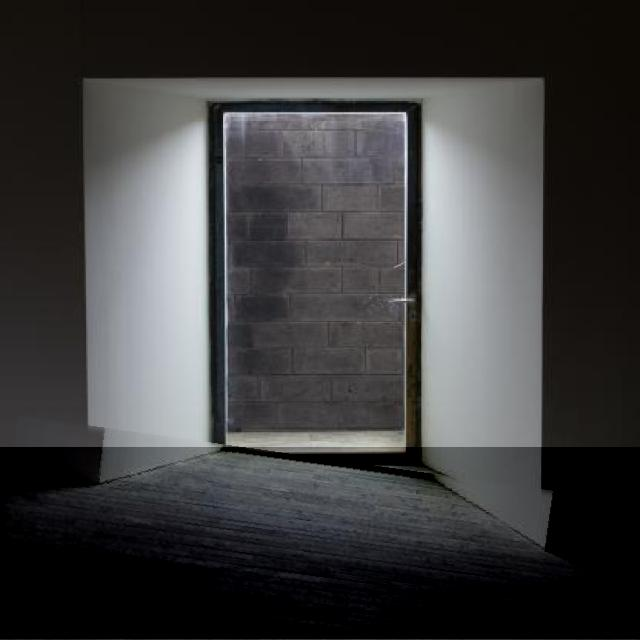floor: (0, 447, 640, 640)
